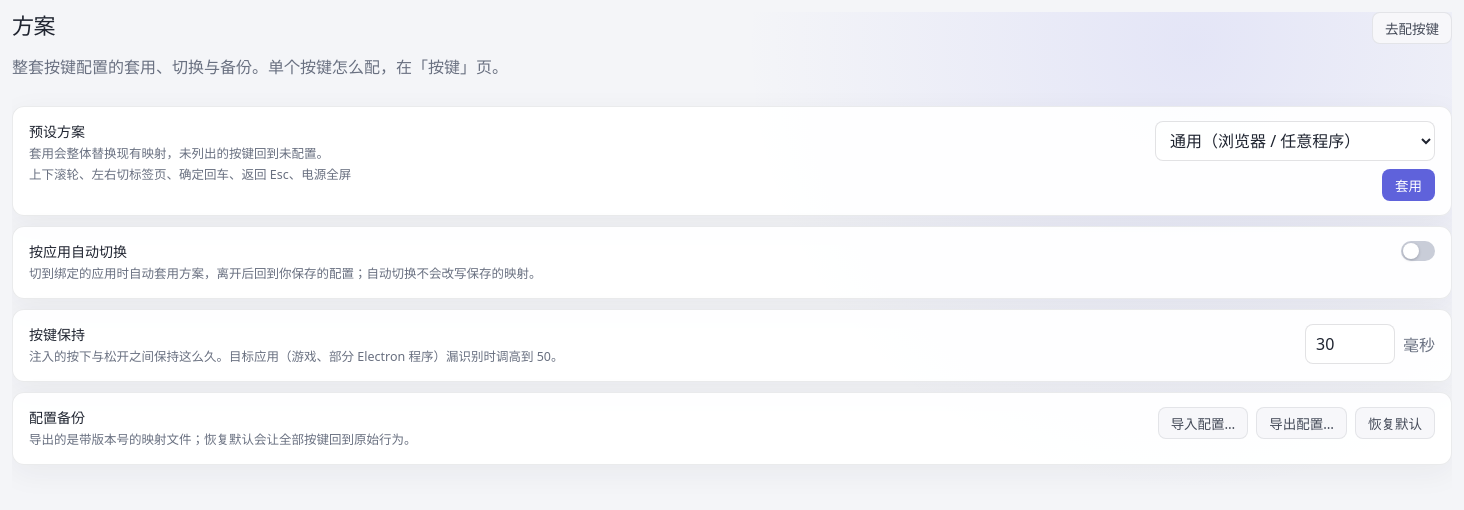
Test case: 方案页 › 配置备份：导入、导出与恢复默认都在这一页
The width and height of the screenshot is (1464, 510).
Step 1. Click the button "导出配置…" → (1302, 423), box [1256,407,1347,439]
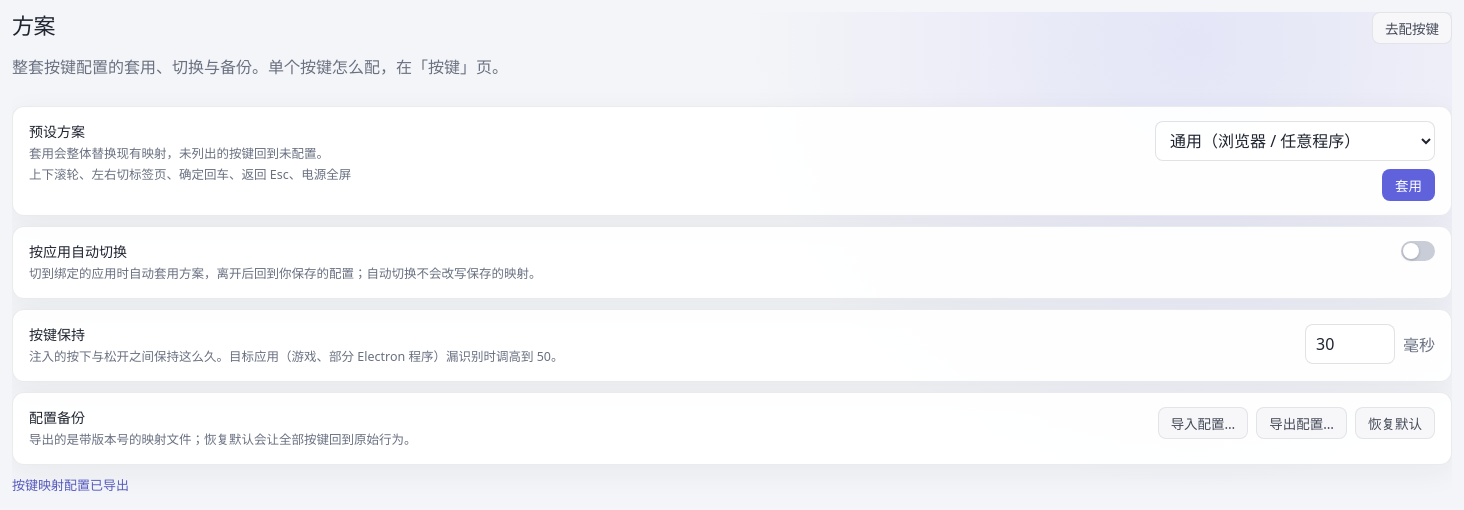
Result: the text "按键映射配置已导出" is shown at [12,476,129,494]
Step 2. Click the button "导入配置…" → (1203, 423), box [1158,407,1248,439]
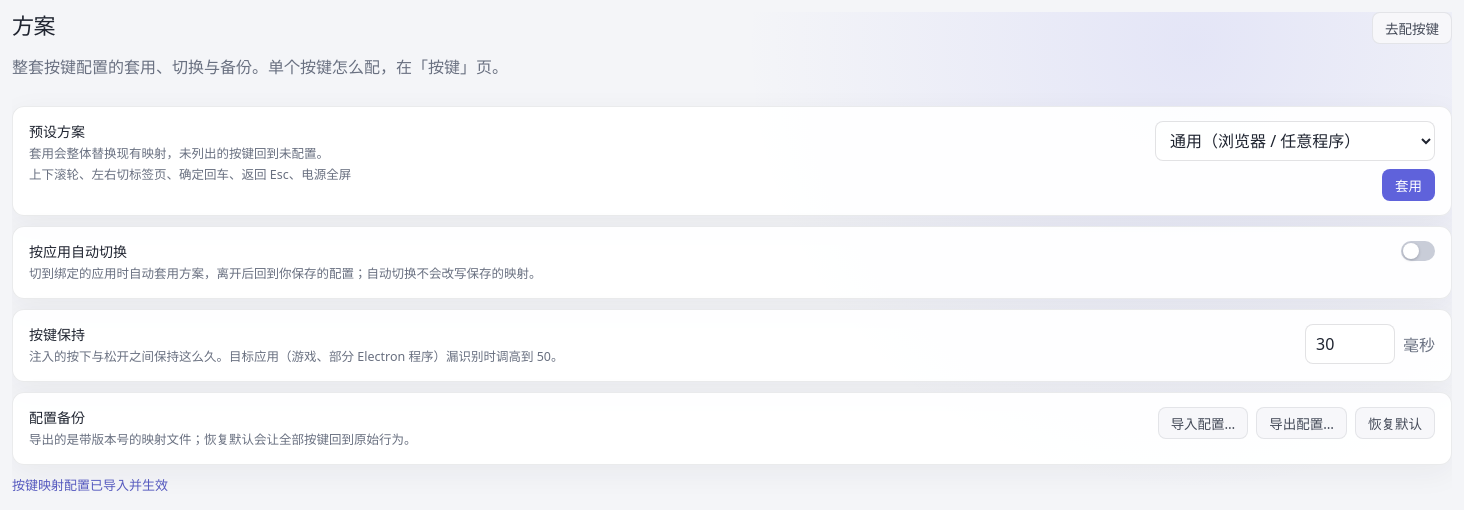
Result: the text "按键映射配置已导入并生效" is shown at [12,476,168,494]
Step 3. Click the button "恢复默认" → (1395, 423), box [1355,407,1435,439]
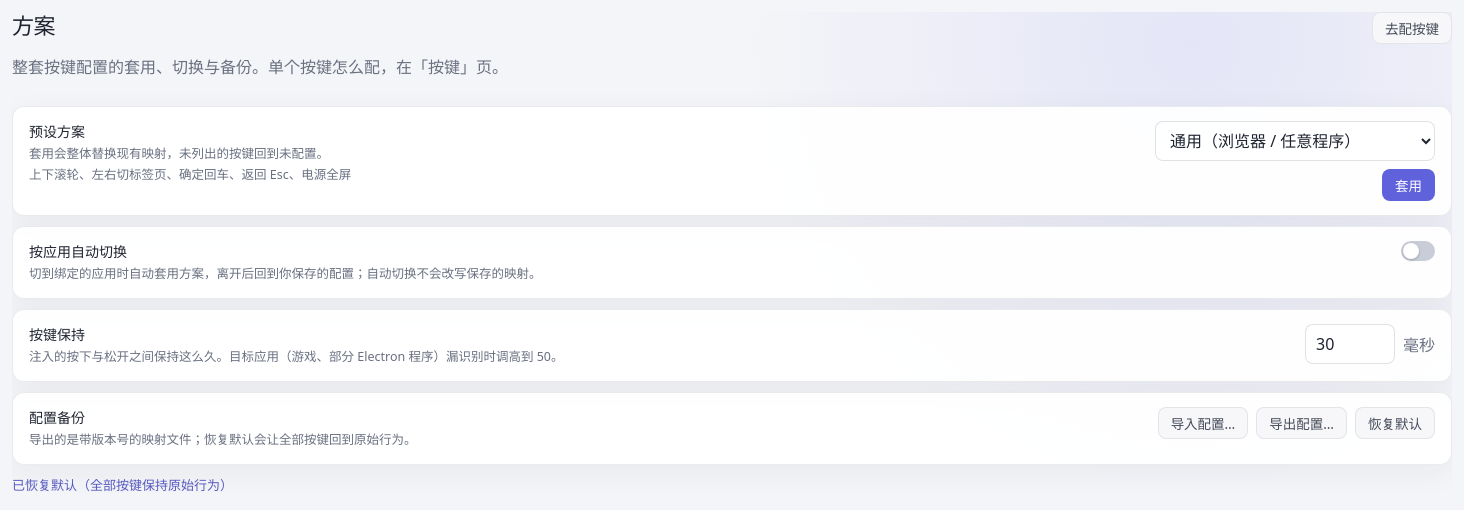
Result: the text "已恢复默认" is shown at [12,476,233,494]
